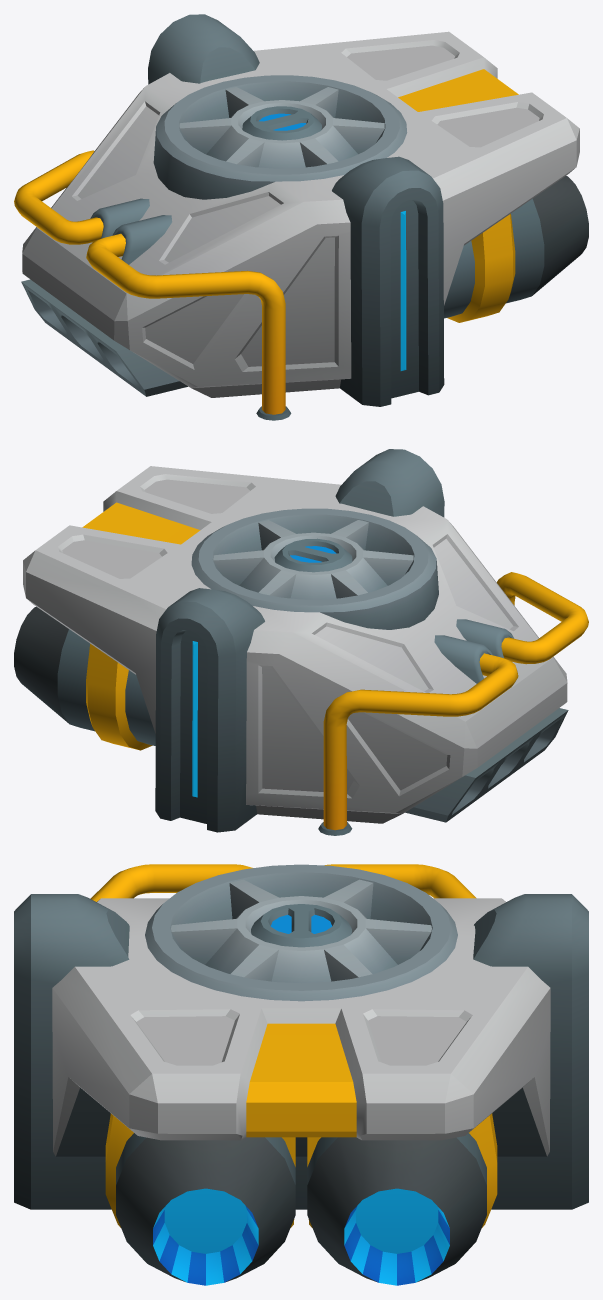
The model's file is Generator_011.glb.
3 renders of one model, top to bottom at view 1: azimuth 30°, elevation 25°; view 2: azimuth 150°, elevation 25°; view 3: azimuth 270°, elevation 25°, orthographic. The views are drawn at different scales.
Parts seen in each view (by area): view 1: Generator_011, Generator_rotor_010; view 2: Generator_011, Generator_rotor_010; view 3: Generator_011, Generator_rotor_010.
Part boxes in pixels (x1=…): Generator_011: x1=14, y1=14, x2=588, y2=420; Generator_rotor_010: x1=179, y1=87, x2=384, y2=168; Generator_011: x1=14, y1=449, x2=588, y2=835; Generator_rotor_010: x1=213, y1=520, x2=413, y2=599; Generator_011: x1=14, y1=864, x2=588, y2=1285; Generator_rotor_010: x1=171, y1=879, x2=431, y2=983.
Size of the model in its own units: 3.6 by 1.65 by 3.03.
Materials: 2 (2 with a texture image).
